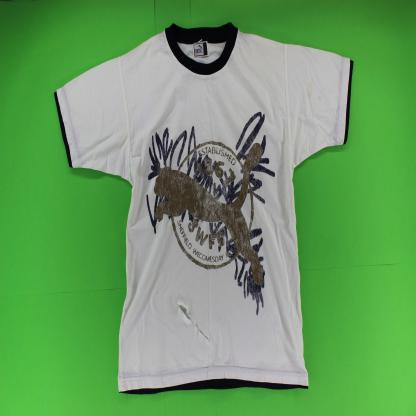hole: (168, 293, 211, 343)
